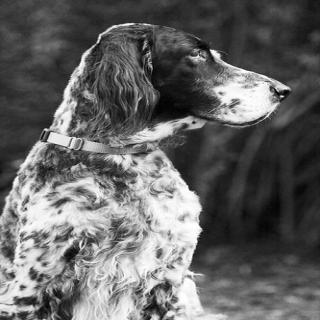dog: (1, 23, 297, 320)
